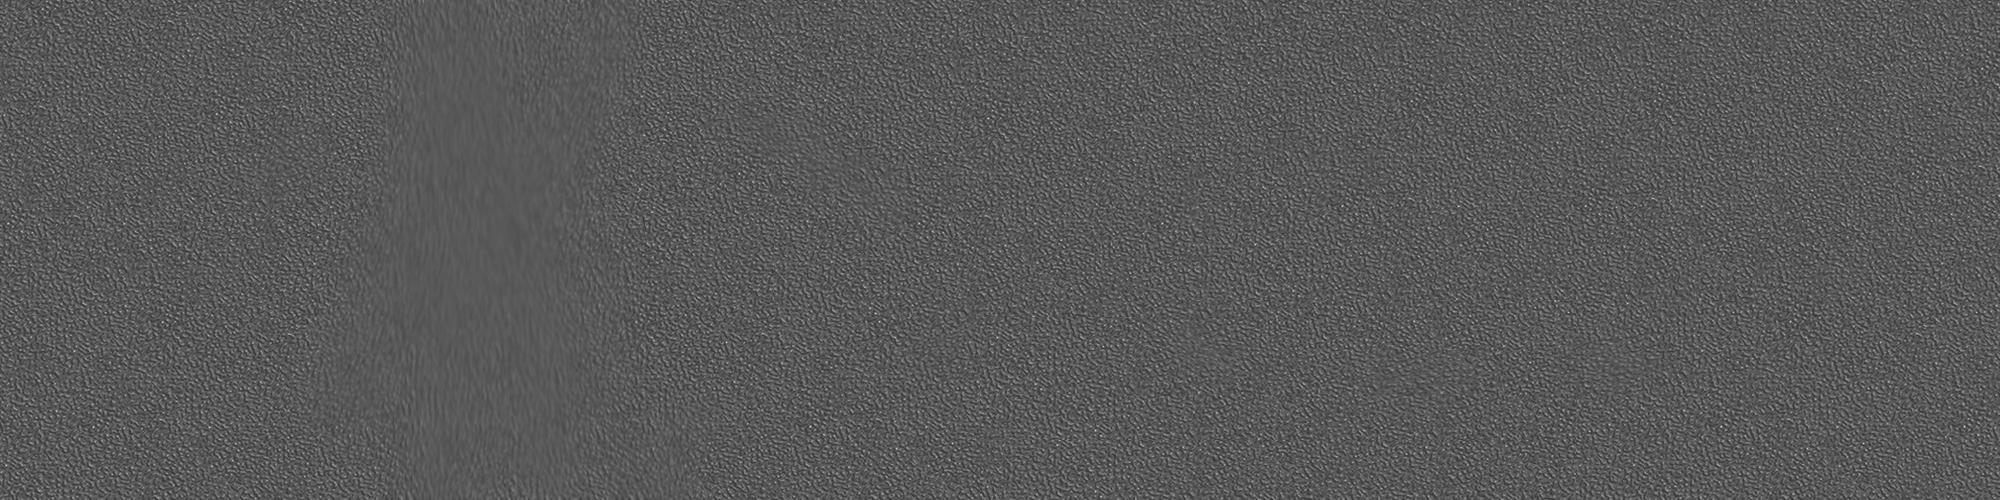Flow_Lines: (339, 10, 629, 499)
